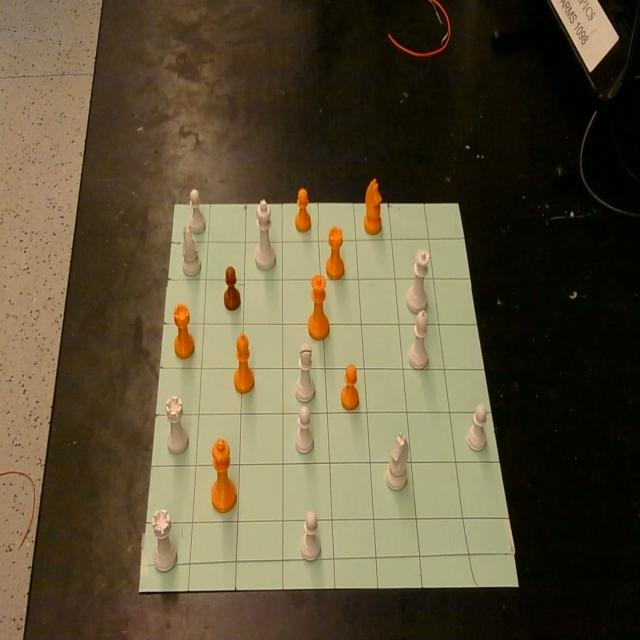orange_bishop: (233, 332, 254, 393)
orange_king: (211, 437, 237, 511)
orange_knight: (364, 178, 382, 235)
orange_pawn: (340, 364, 359, 411), (295, 186, 312, 232), (223, 265, 240, 310)
orange_queen: (308, 274, 330, 341)
orange_rook: (173, 302, 195, 359), (326, 226, 345, 279)
white_bishop: (295, 342, 316, 402), (408, 308, 429, 368)
white_king: (255, 200, 276, 269)
white_knight: (384, 432, 409, 491), (182, 224, 200, 277)
white_pawn: (466, 404, 488, 452), (300, 511, 320, 561), (295, 406, 313, 454), (188, 187, 205, 234)
white_queen: (406, 248, 428, 314)
white_rook: (152, 508, 177, 571), (165, 396, 189, 454)
